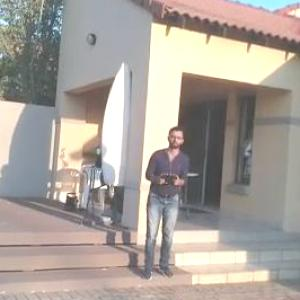follow: (137, 122, 190, 283)
